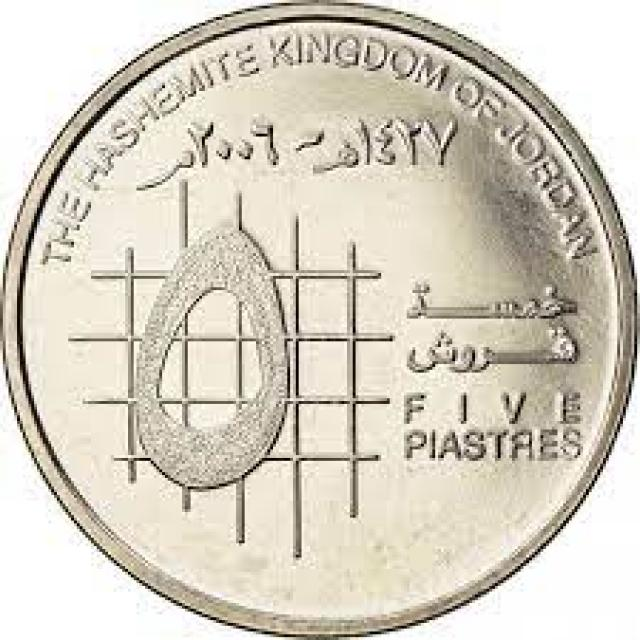5-coins: (0, 3, 640, 640)
